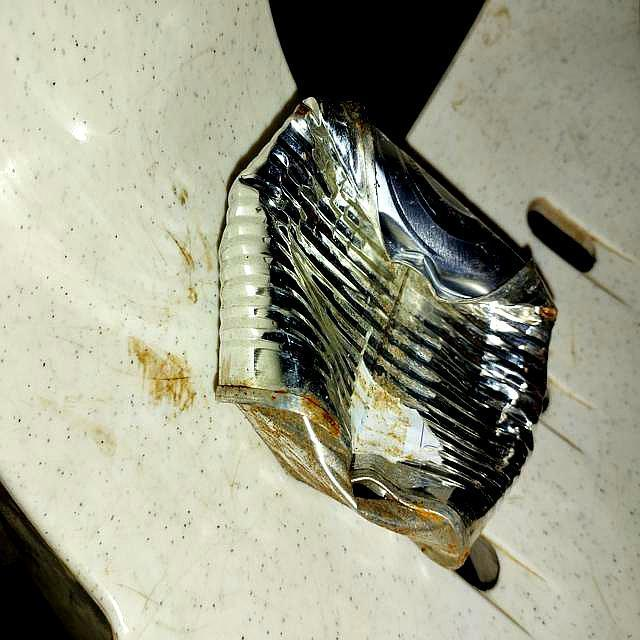Non-biodegradable: (213, 94, 560, 579)
